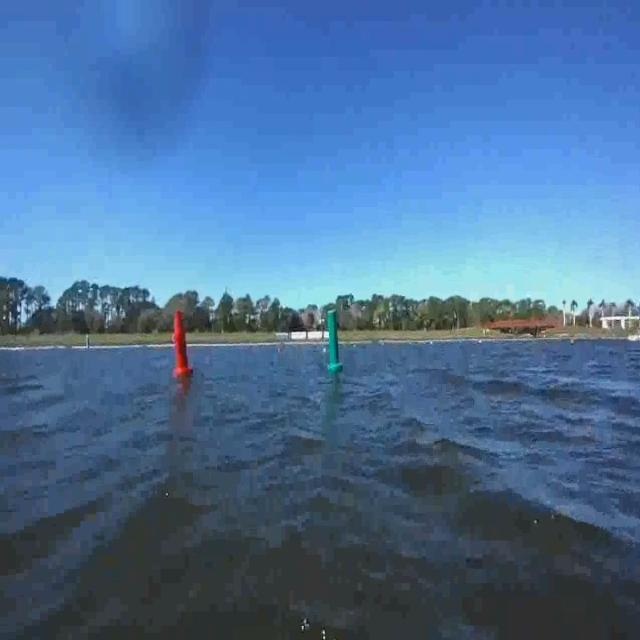green-column-buoy: (325, 310, 343, 372)
red-column-buoy: (170, 310, 192, 378)
